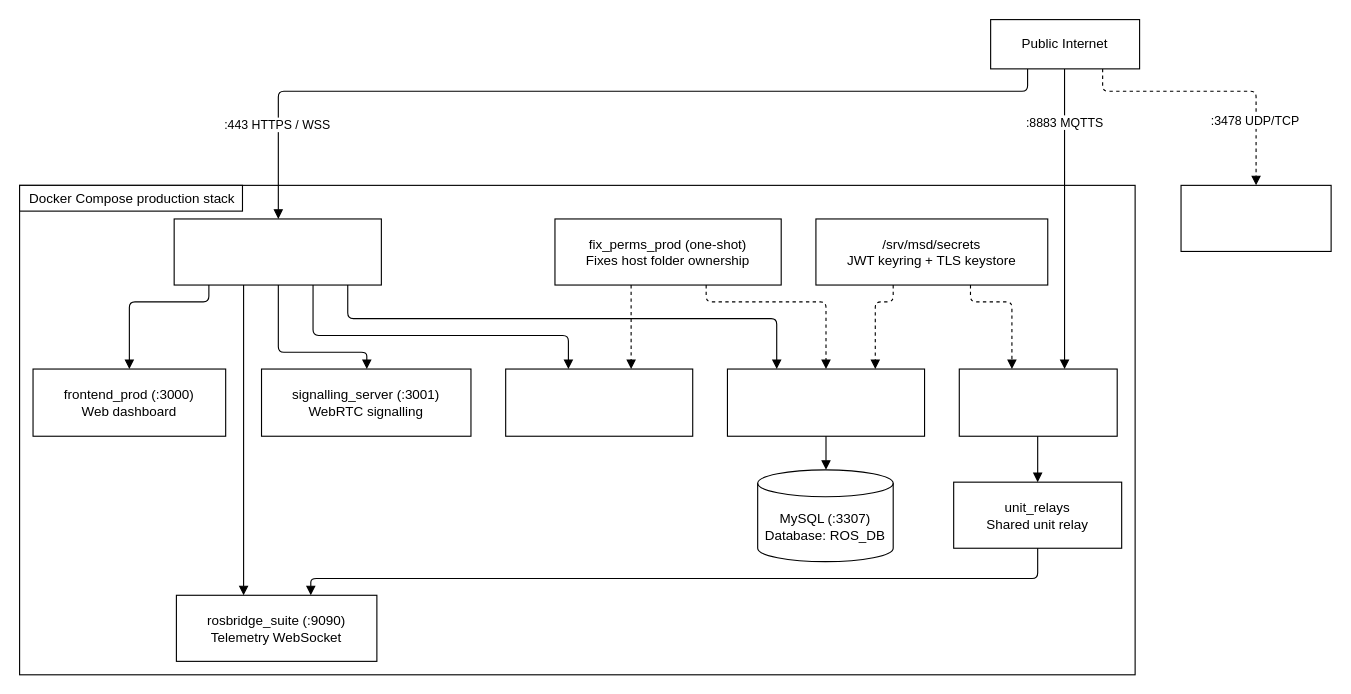
The diagram is 1351 pixels wide and 694 high, and some of its shapes have lost their labels. Here are the shapes that lost their labels. From the top down, the centre of each, then its label:
At point (1255, 217): "coturn (:3478) WebRTC relay".
At point (277, 251): "Apache2 Reverse Proxy TLS + routing".
At point (599, 402): "media-server (:3003) Maps + files".
At point (825, 402): "backend_node (:5000) REST API".
At point (1037, 402): "HiveMQ (:8883) Shared broker".
